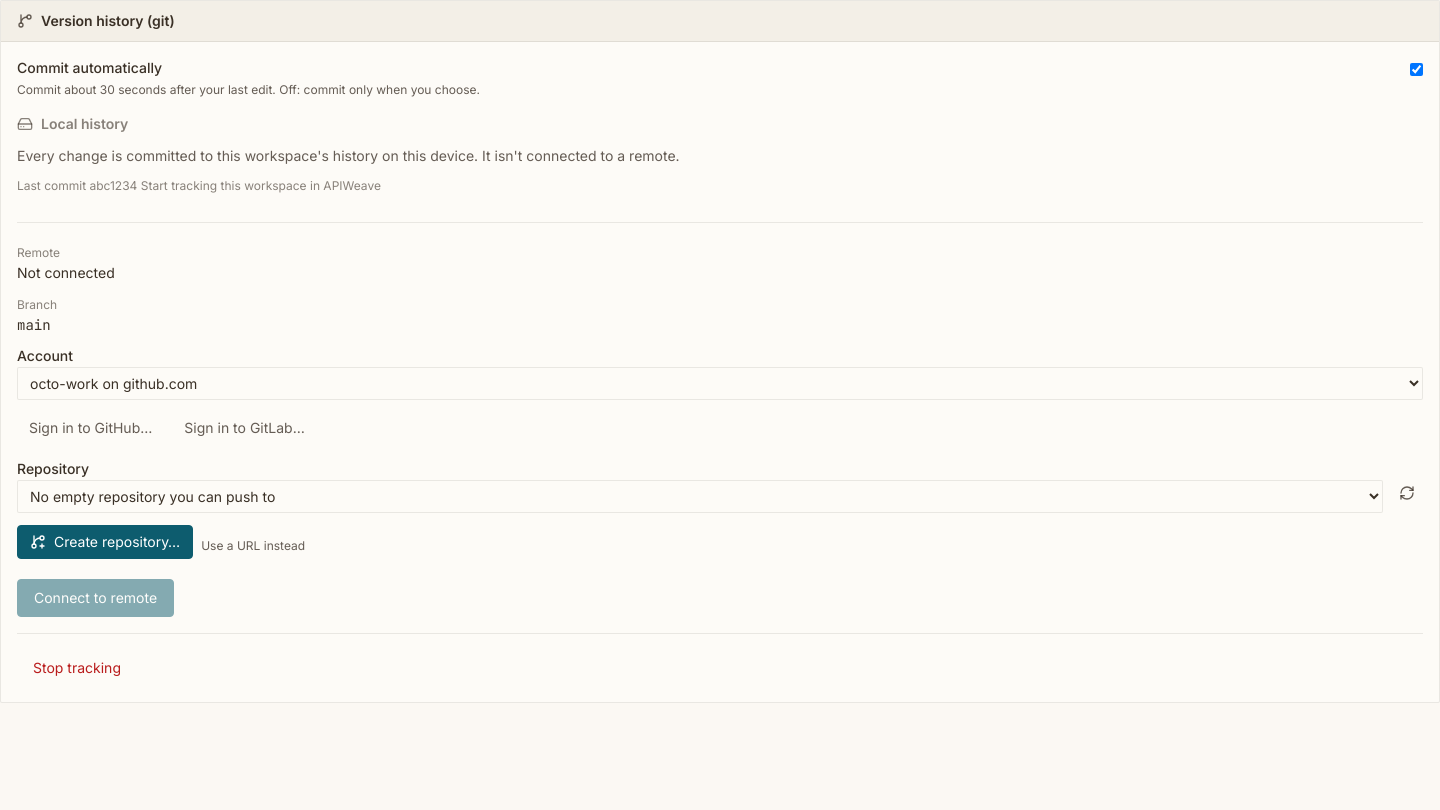
Create repository › keeps the dialog open with the host's refusal, naming a repository that exists
Step 1. Select "octo-work on github.com" in the dropdown named "Account" → (720, 384), box [17,367,1423,400]
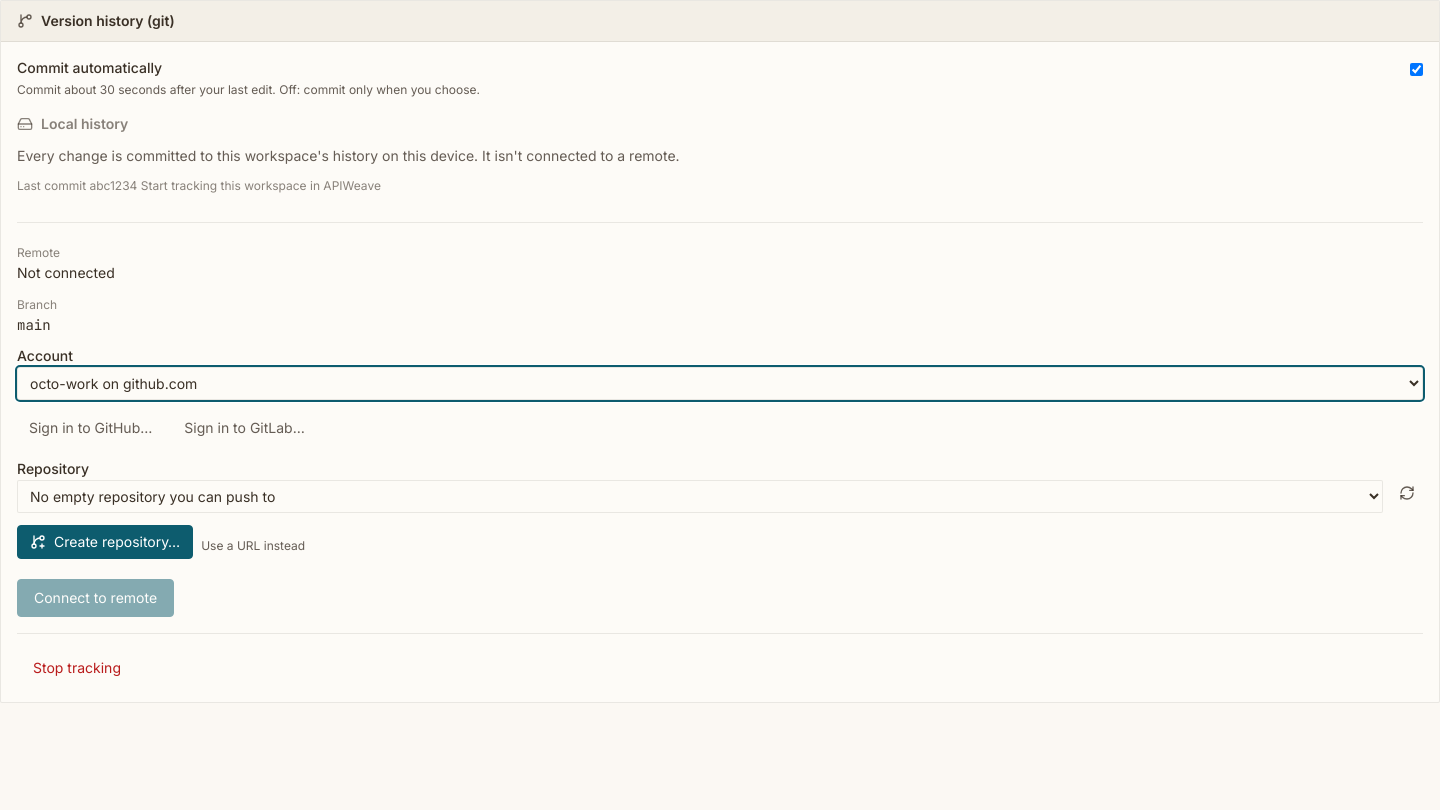
Step 2. Click the button "Create repository…" → (105, 542), box [17,525,193,559]
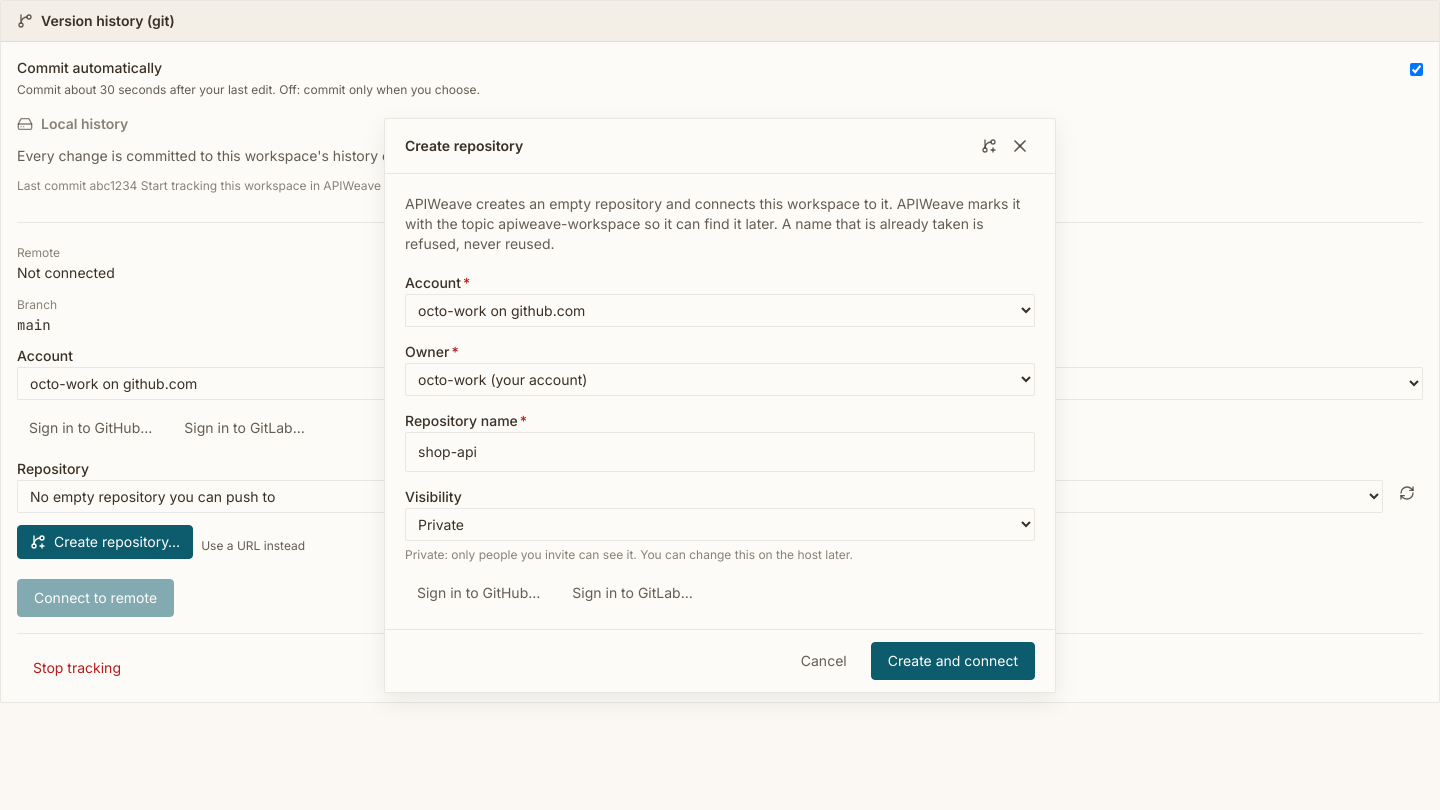
Now the dropdown named "Account" shows "octo-work on github.com", box [405,294,1035,326]
Now the dropdown named "Owner" shows "octo-work (your account)", box [405,362,1035,396]
Step 3. Click the button "Create and connect" → (953, 660), box [871,642,1035,680]
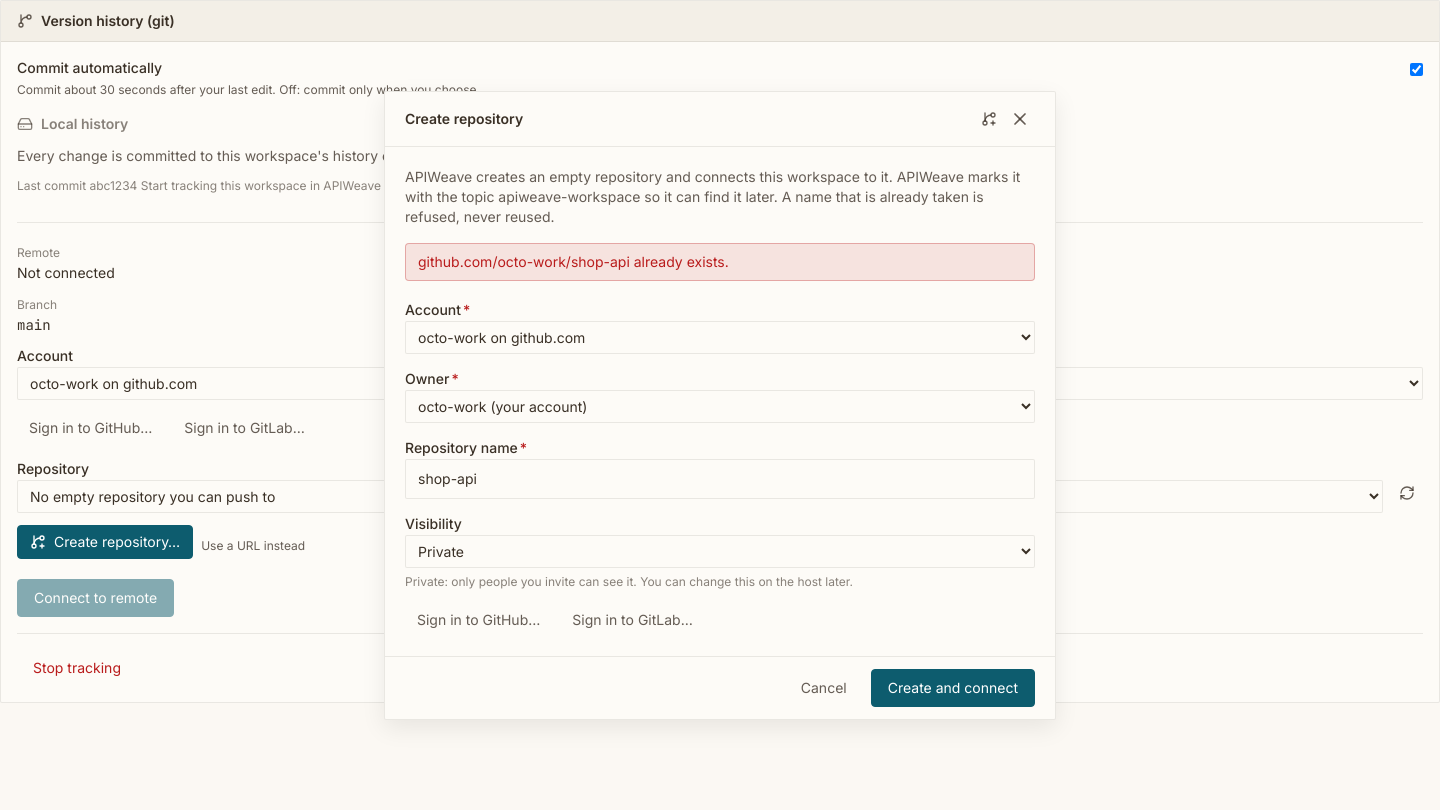
Now the message reads "github.com/octo-work/shop-api already exists.", box [418,252,729,270]
